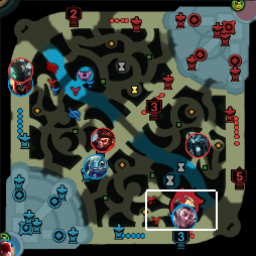ezreal: (172, 194, 196, 219)
fizz: (82, 154, 108, 178)
karthus: (185, 132, 211, 158)
leesin: (1, 239, 16, 256)
monkeyking: (90, 127, 114, 152)
mordekaiser: (9, 57, 33, 81)
rakan: (172, 204, 196, 229)
zed: (8, 71, 33, 95)
